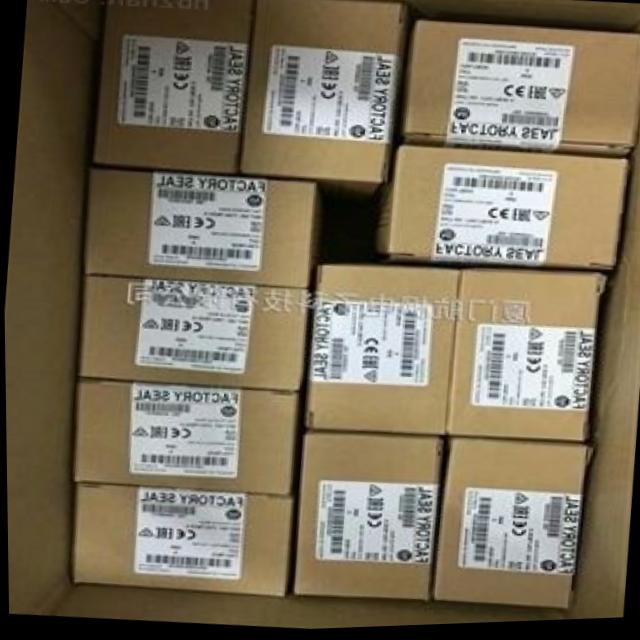box: (239, 0, 409, 203), (394, 23, 640, 162), (369, 147, 627, 276), (82, 166, 326, 290), (89, 0, 259, 175), (444, 270, 607, 446), (73, 276, 312, 395), (432, 438, 591, 614), (70, 378, 300, 498), (304, 262, 459, 438), (292, 430, 447, 605), (67, 481, 294, 599)
